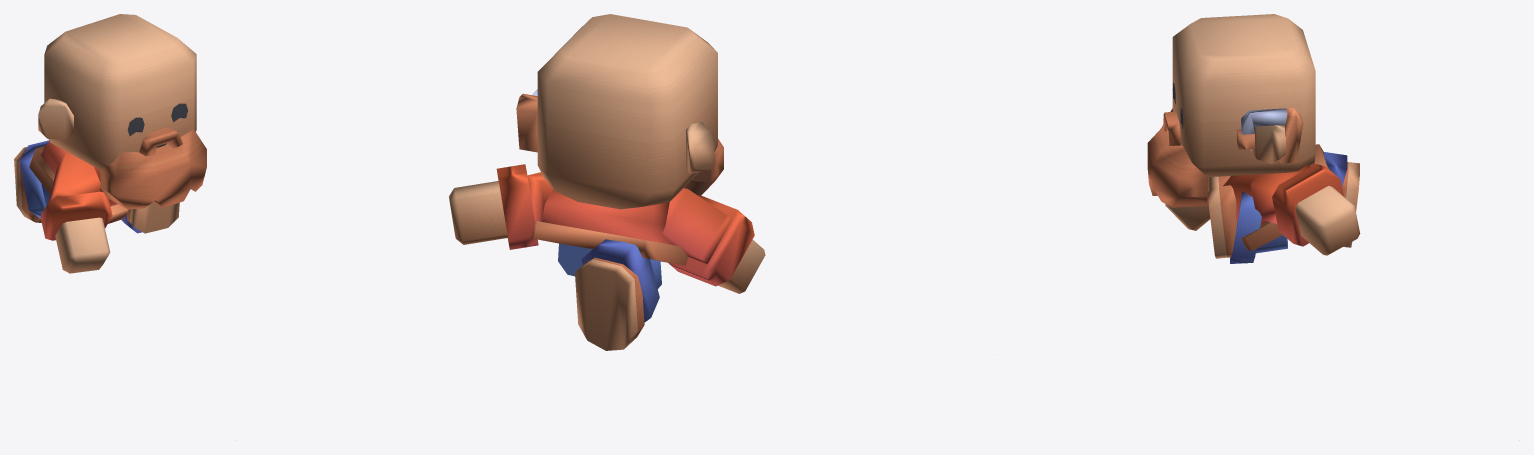
The model's file is rival_sprint_3.glb.
3 views of the same model, side by side, from view 1: azimuth 30°, elevation 25°; view 2: azimuth 150°, elevation 25°; view 3: azimuth 270°, elevation 25° (orthographic). The views are drawn at different scales.
Visible parts, largest first — view 1: rival-sprint-3; view 2: rival-sprint-3; view 3: rival-sprint-3.
Boxes of the visible parts, x1=… form: rival-sprint-3: x1=14, y1=14, x2=206, y2=273; rival-sprint-3: x1=449, y1=14, x2=765, y2=350; rival-sprint-3: x1=1147, y1=14, x2=1360, y2=263.
Bounding box in the file's own units: 1.2 × 0.8113 × 1.2.
Materials: 1 (1 with a texture image).
